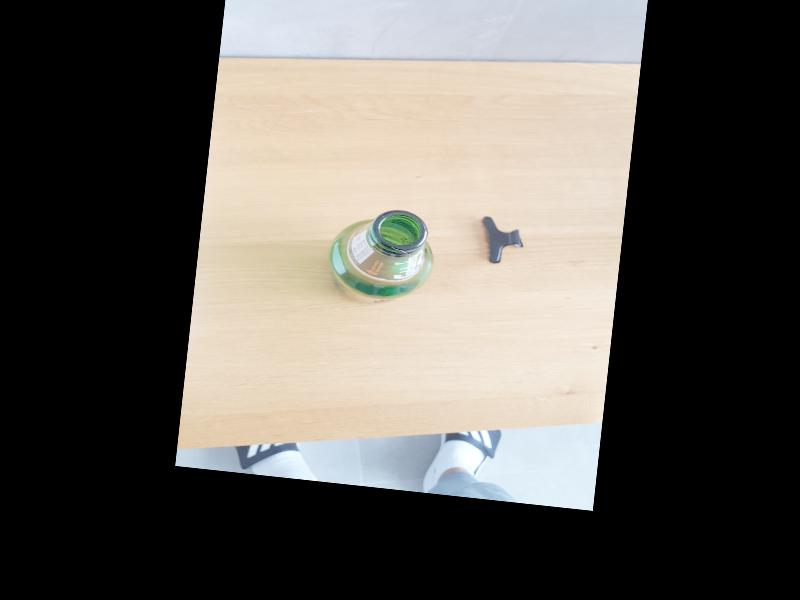Beer: (324, 203, 441, 312)
